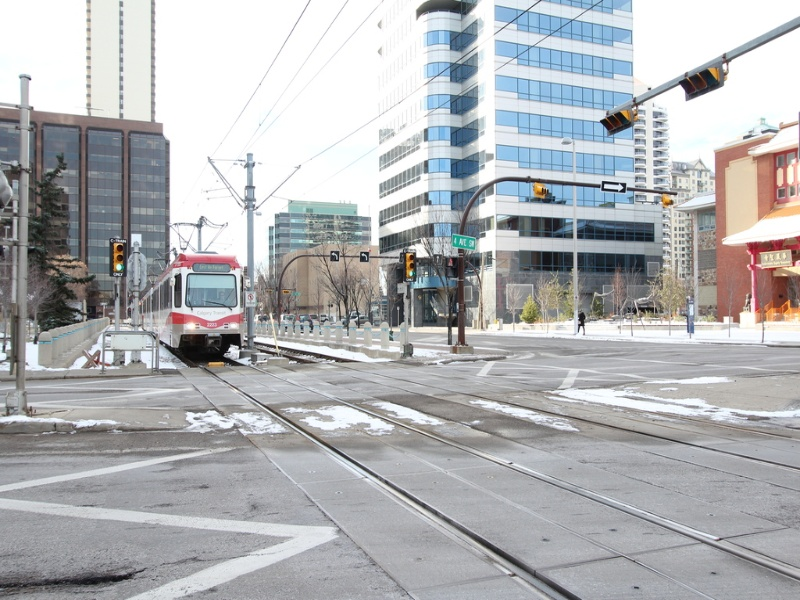green_light: (109, 260, 128, 275)
left_turn_ahead: (358, 248, 372, 263), (329, 249, 342, 263)
right_direction: (602, 179, 627, 193)
